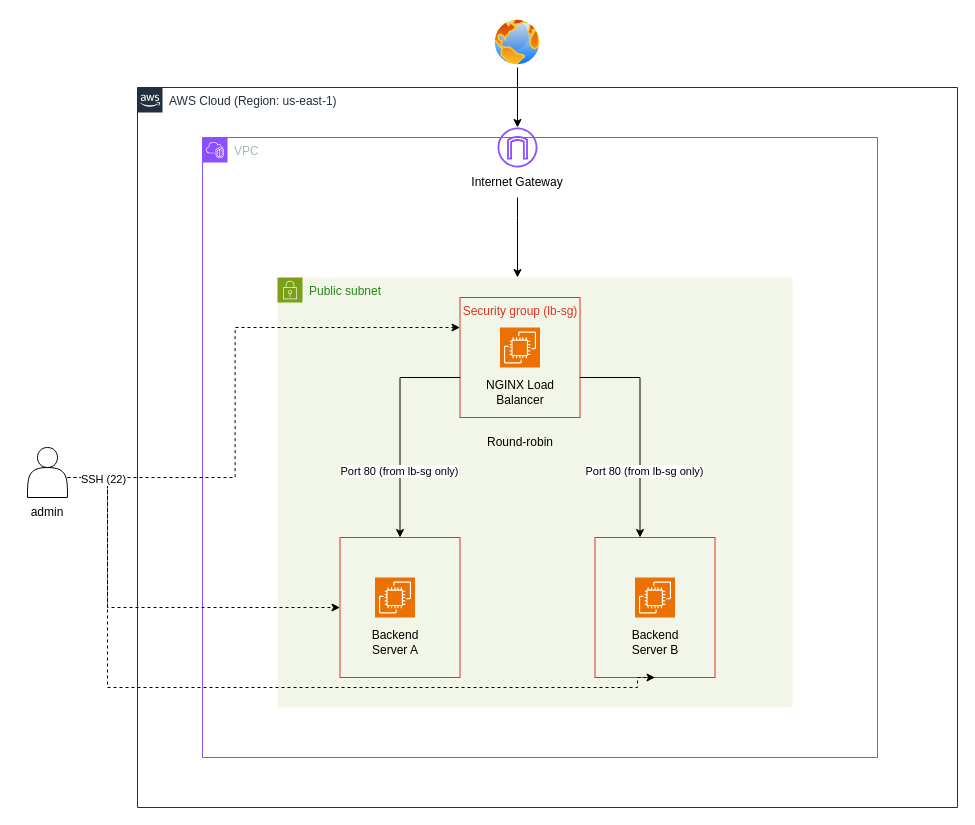
The diagram is 975 pixels wide and 825 high, and some of its shapes have lost their labels. The shapes that lost their labels are listed below. From the top down, each one's box as (x1, y1, x2, y2) in pixels, then its label:
(339, 536, 460, 678): Security group (backend-sg)
(594, 536, 715, 678): Security group (backened-sg)
